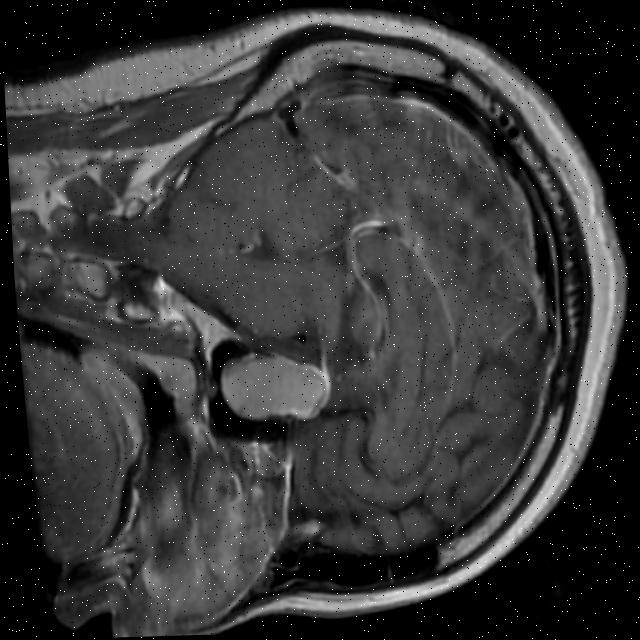Pituitary: (218, 347, 334, 428)
